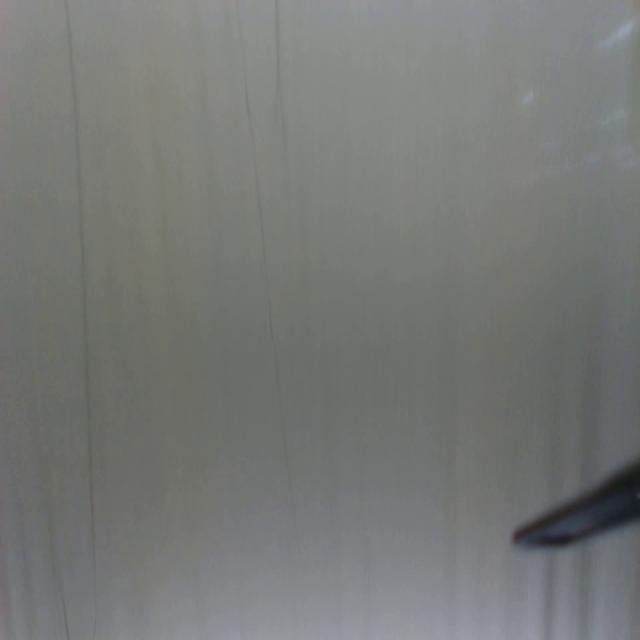crease: (234, 0, 296, 528), (64, 0, 100, 640), (272, 0, 283, 130)
